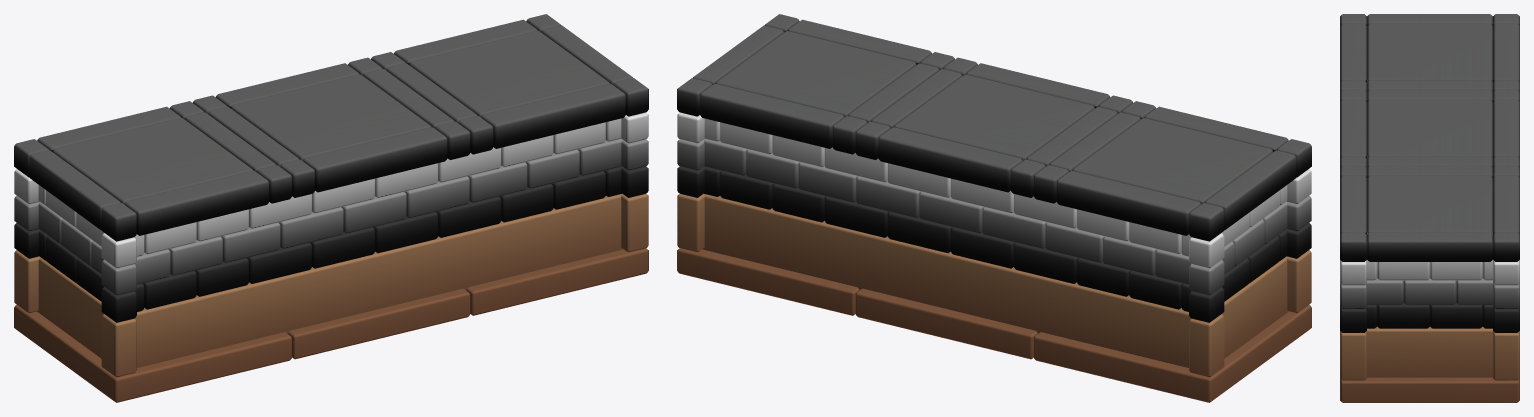
File: SM_Brick_Body_05.fbx
3 views of the same model, side by side, from view 1: azimuth 30°, elevation 25°; view 2: azimuth 150°, elevation 25°; view 3: azimuth 270°, elevation 25° (orthographic). The views are drawn at different scales.
Visible parts, largest first — view 1: SM_Brick_Body_05; view 2: SM_Brick_Body_05; view 3: SM_Brick_Body_05.
Boxes of the visible parts, <box> form: SM_Brick_Body_05: <box>14,14,648,402</box>; SM_Brick_Body_05: <box>677,14,1311,402</box>; SM_Brick_Body_05: <box>1340,14,1519,402</box>.
Bounding box in the file's own units: 3 × 0.9997 × 0.9997.
